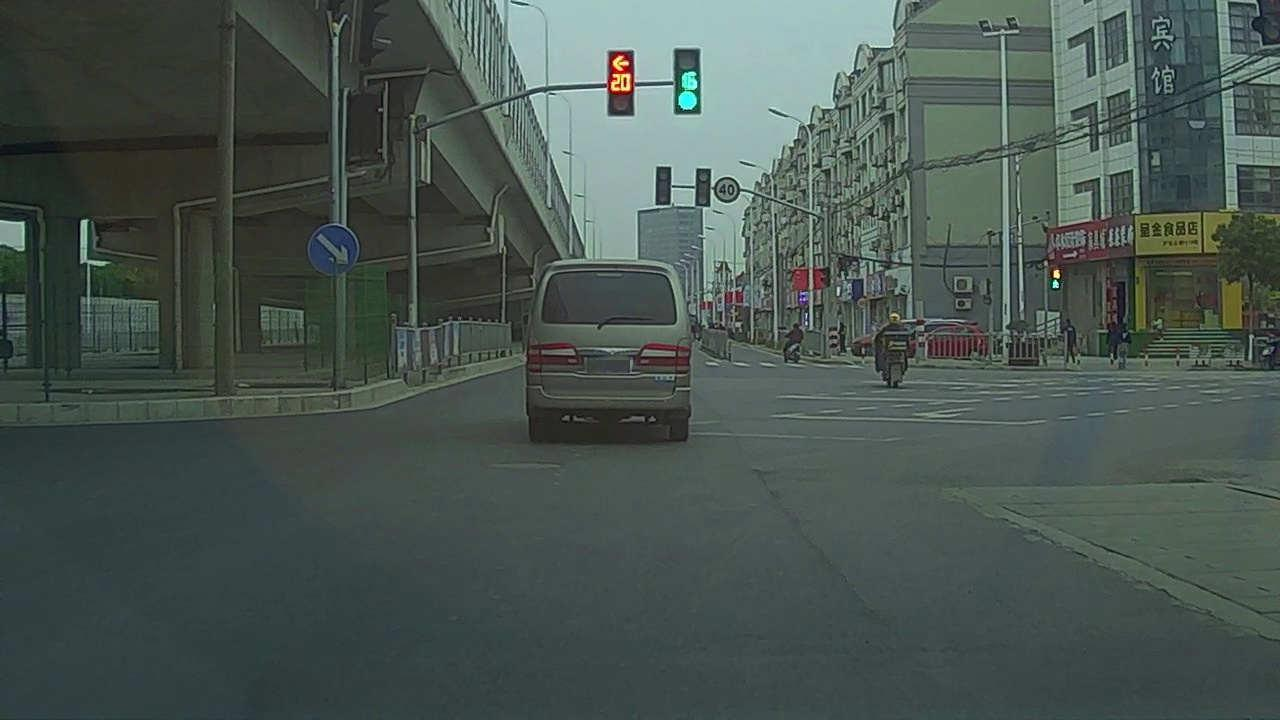traffic_light: (675, 48, 699, 115), (609, 48, 632, 116), (657, 167, 671, 204), (696, 166, 709, 205)
